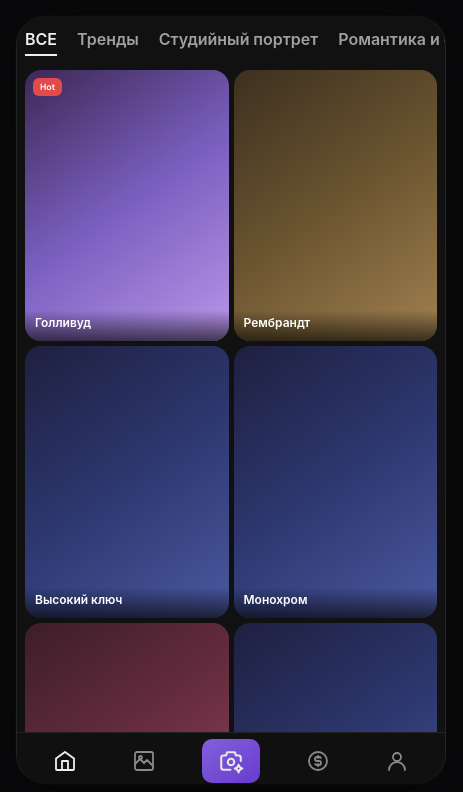
Test: TG user reactivity › retries reading TG user after 300ms for lazy SDK population
Navigate to profile using fireEvent (avoids userEvent timer conflicts)
Click the button named "Профиль" at (397, 760), box [375,738,419,782]
Wait 350 ms
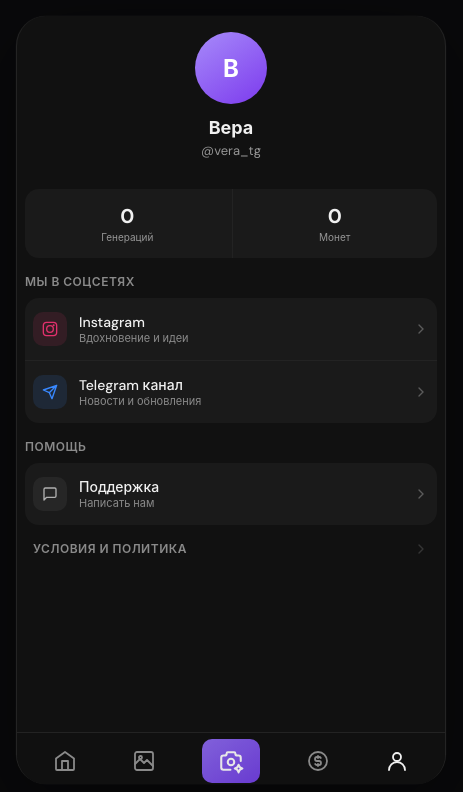
Check: the text "@vera_tg" is shown, box [201,142,261,159]
